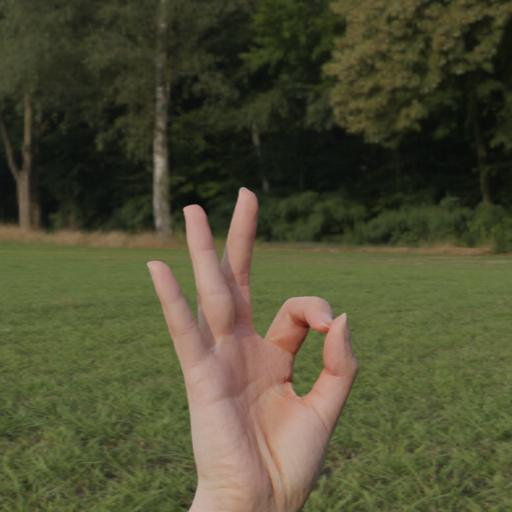F: (122, 174, 356, 512)
